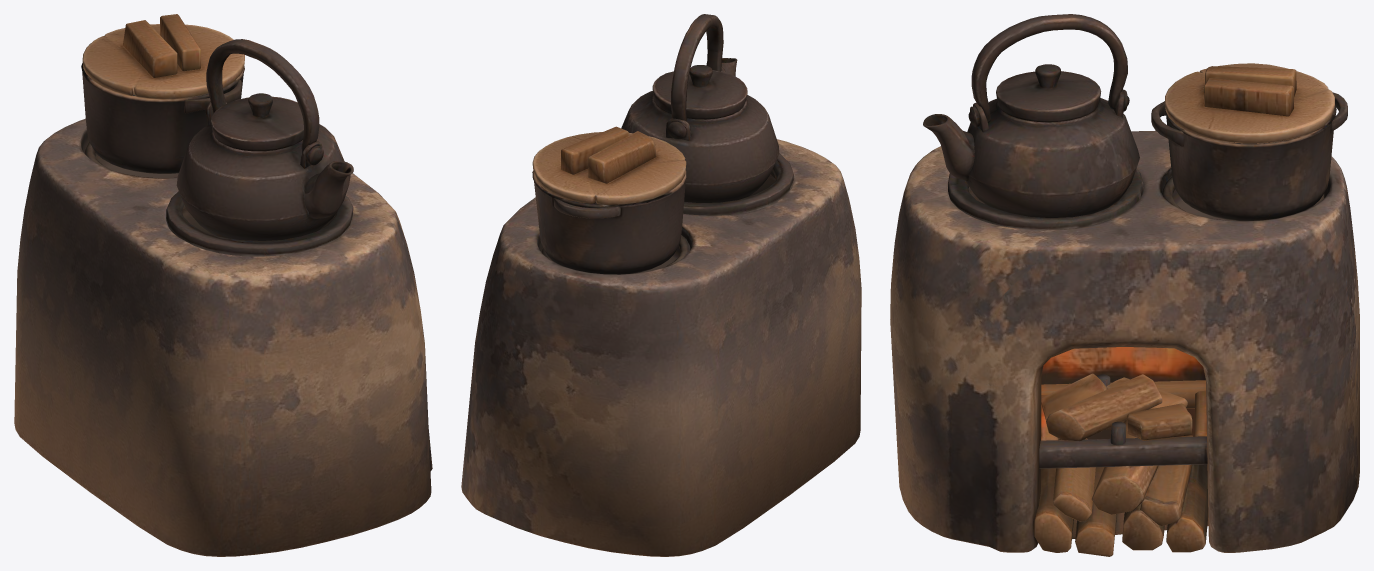
The model's file is kamado.glb.
3 renders of one model, left to right at view 1: azimuth 30°, elevation 25°; view 2: azimuth 150°, elevation 25°; view 3: azimuth 270°, elevation 25°, orthographic. The views are drawn at different scales.
Visible parts, largest first — view 1: tripo_node_5cfe4e7d-d038-433f-9663-aee318494ca0; view 2: tripo_node_5cfe4e7d-d038-433f-9663-aee318494ca0; view 3: tripo_node_5cfe4e7d-d038-433f-9663-aee318494ca0.
Boxes of the visible parts, bbox=[...] form: tripo_node_5cfe4e7d-d038-433f-9663-aee318494ca0: bbox=[14, 14, 432, 556]; tripo_node_5cfe4e7d-d038-433f-9663-aee318494ca0: bbox=[461, 14, 861, 556]; tripo_node_5cfe4e7d-d038-433f-9663-aee318494ca0: bbox=[890, 14, 1359, 556].
Size of the model in its own units: 0.6792 by 0.9995 by 0.9214.
1 material, 1 textured.
